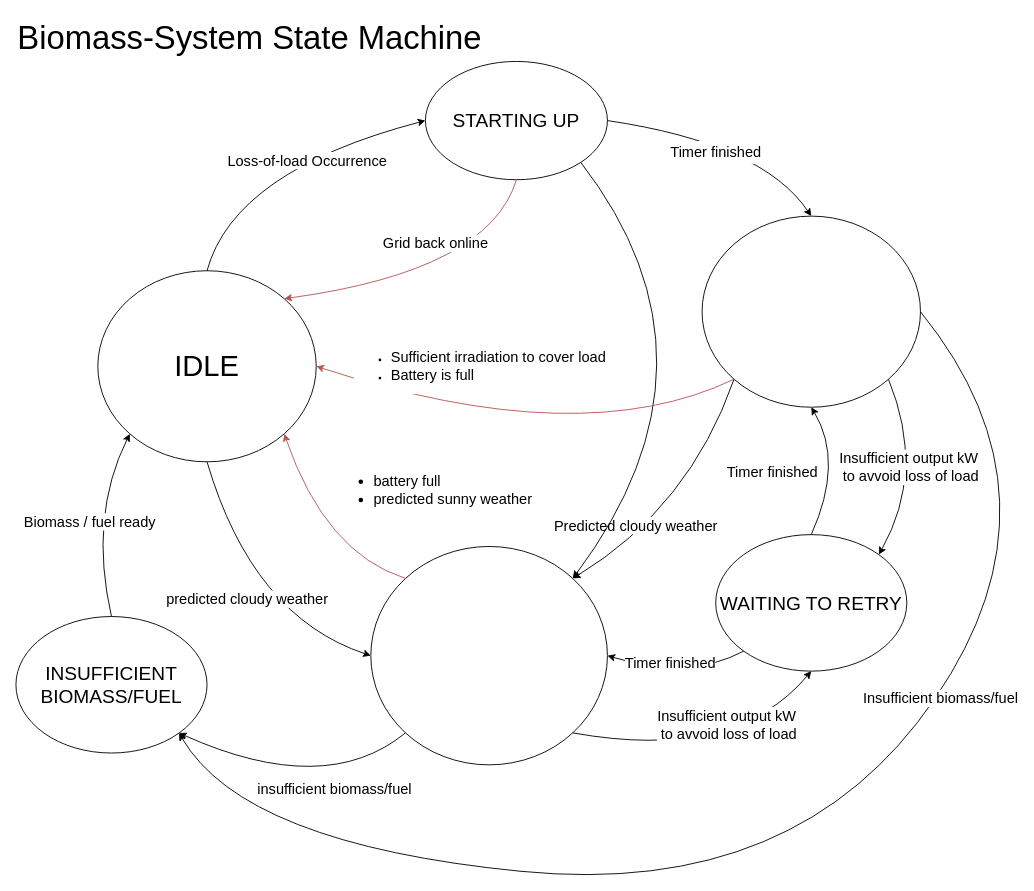
Image size: 1034x891. Some labels were removed from this diagram. The box of each missing label's shape, as (x1, y1, x2, y2) in pixels:
RUNNING: (701, 215, 920, 407)
RUNNING PREEMPTIVELY: (370, 546, 607, 765)
